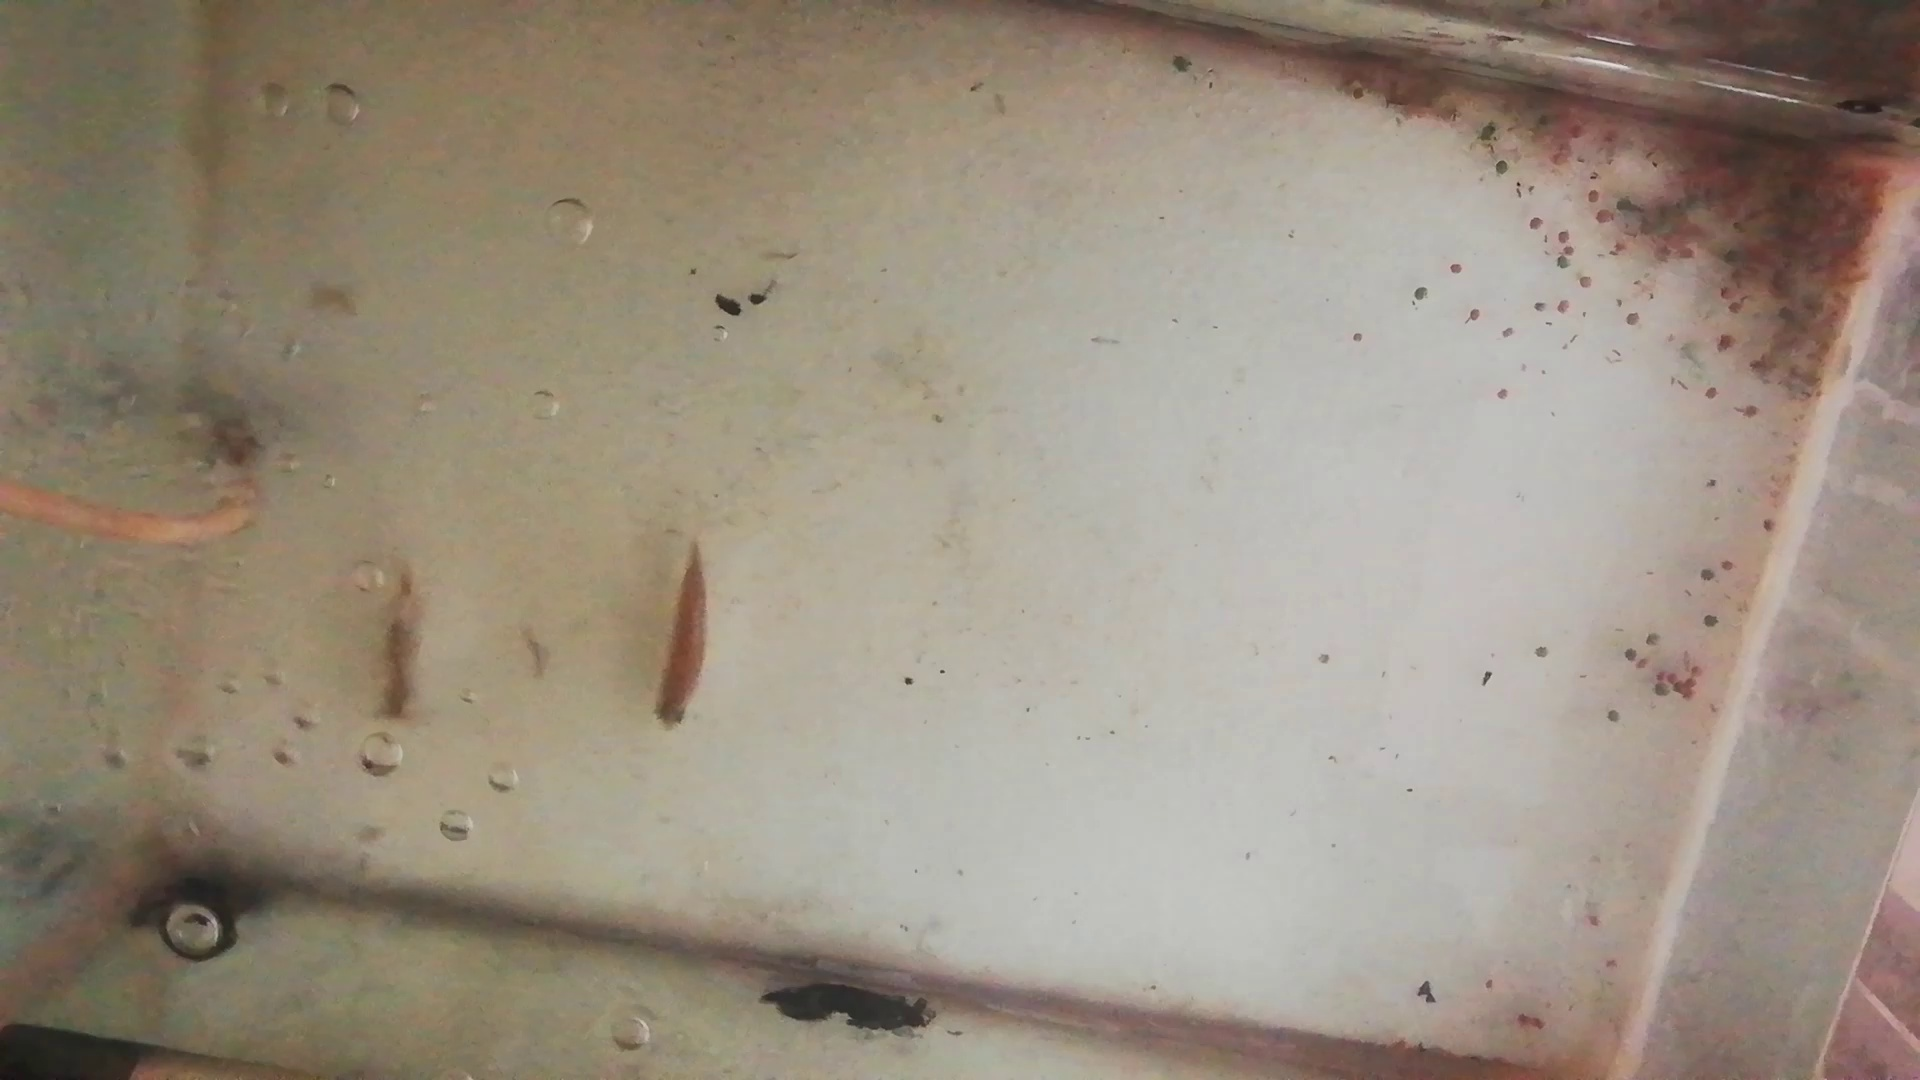fish: (654, 539, 717, 735), (378, 546, 419, 727)
